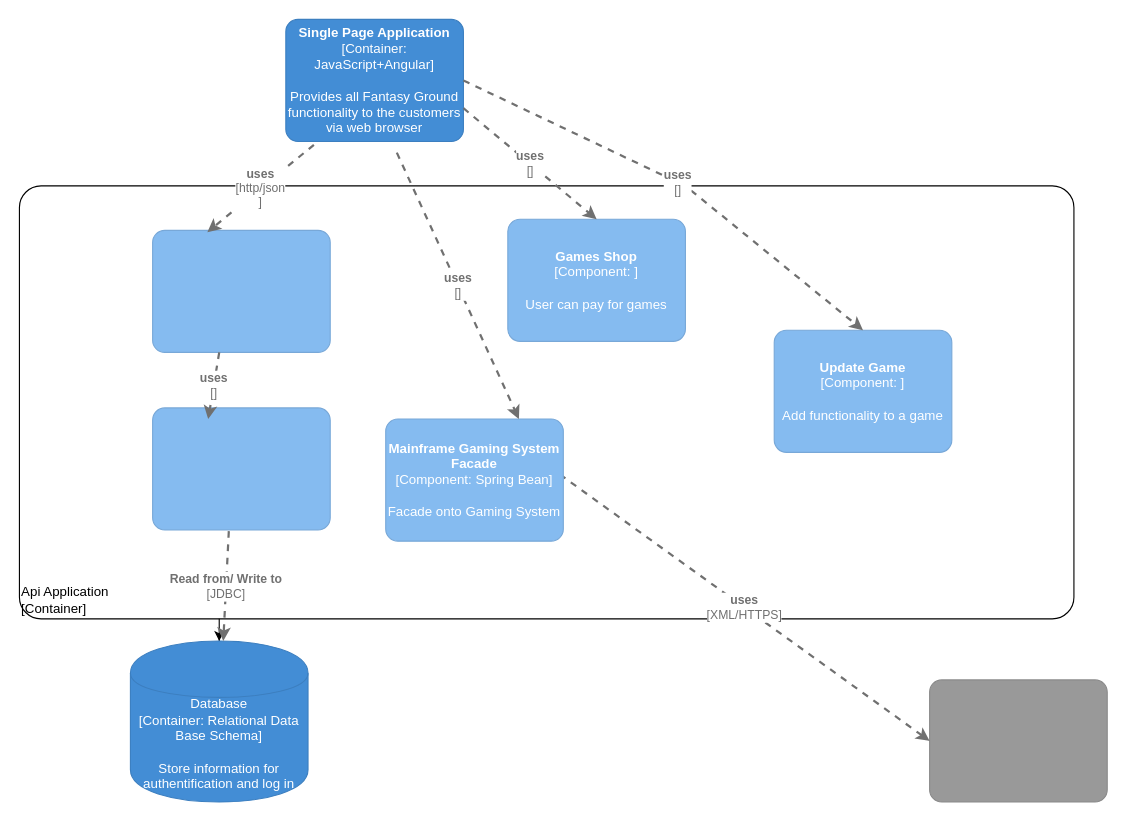
The diagram is 1127 pixels wide and 821 high, and some of its shapes have lost their labels. The shapes that lost their labels are listed below. From the top down, each one's centre as x and y in pixels, then its label:
At point (241, 290): "Sign in Controller [Component: Spring MCv ] Allow user to sign in on platform".
At point (241, 468): "Security Component [Component: Spring Bean] Functionality for sign in".
At point (1018, 740): "Mainframe Gaming System [Software System] contains all the game".
